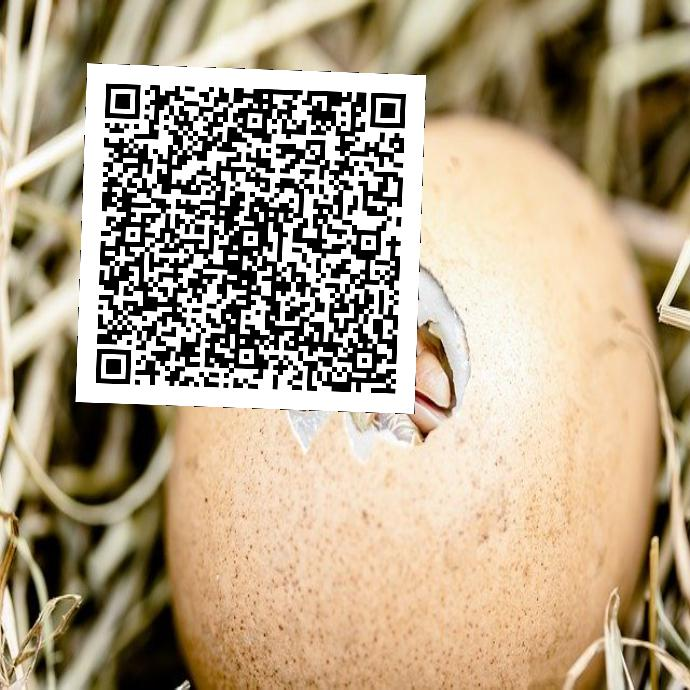qr_code: (75, 63, 425, 413)
